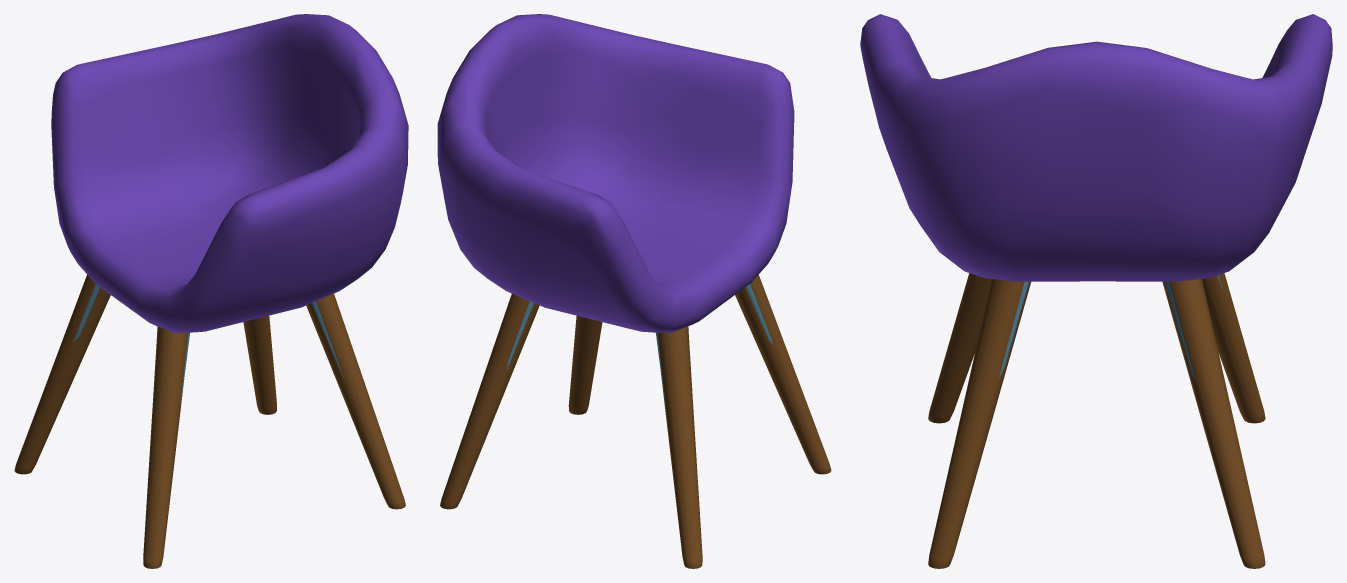
The model's file is chair_06_purple.fbx.
3 renders of one model, left to right at view 1: azimuth 30°, elevation 25°; view 2: azimuth 150°, elevation 25°; view 3: azimuth 270°, elevation 25°, orthographic. The views are drawn at different scales.
Parts seen in each view (by area): view 1: chair_06_purple; view 2: chair_06_purple; view 3: chair_06_purple.
Part boxes in pixels (box(x1,y1,x2,y2)): chair_06_purple: box(14, 14, 408, 568); chair_06_purple: box(437, 14, 831, 568); chair_06_purple: box(860, 14, 1332, 568).
Size of the model in its own units: 55.35 by 80.79 by 65.62.
Materials: 1 (1 with a texture image).
